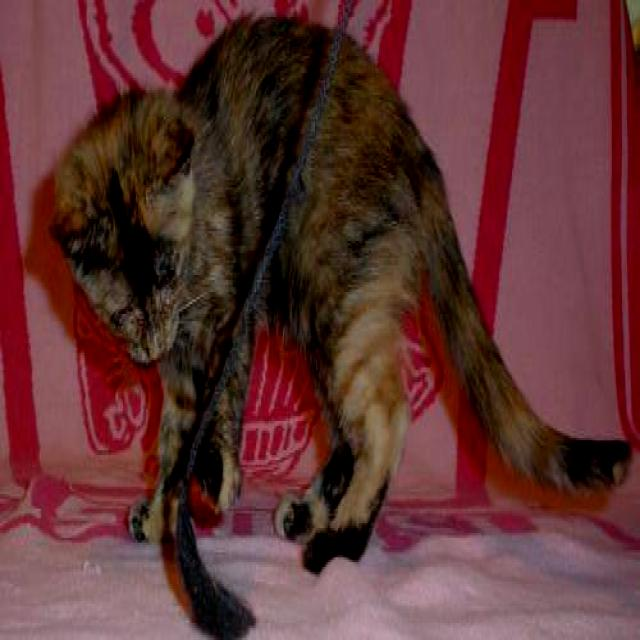Kucing: (20, 23, 604, 590)
